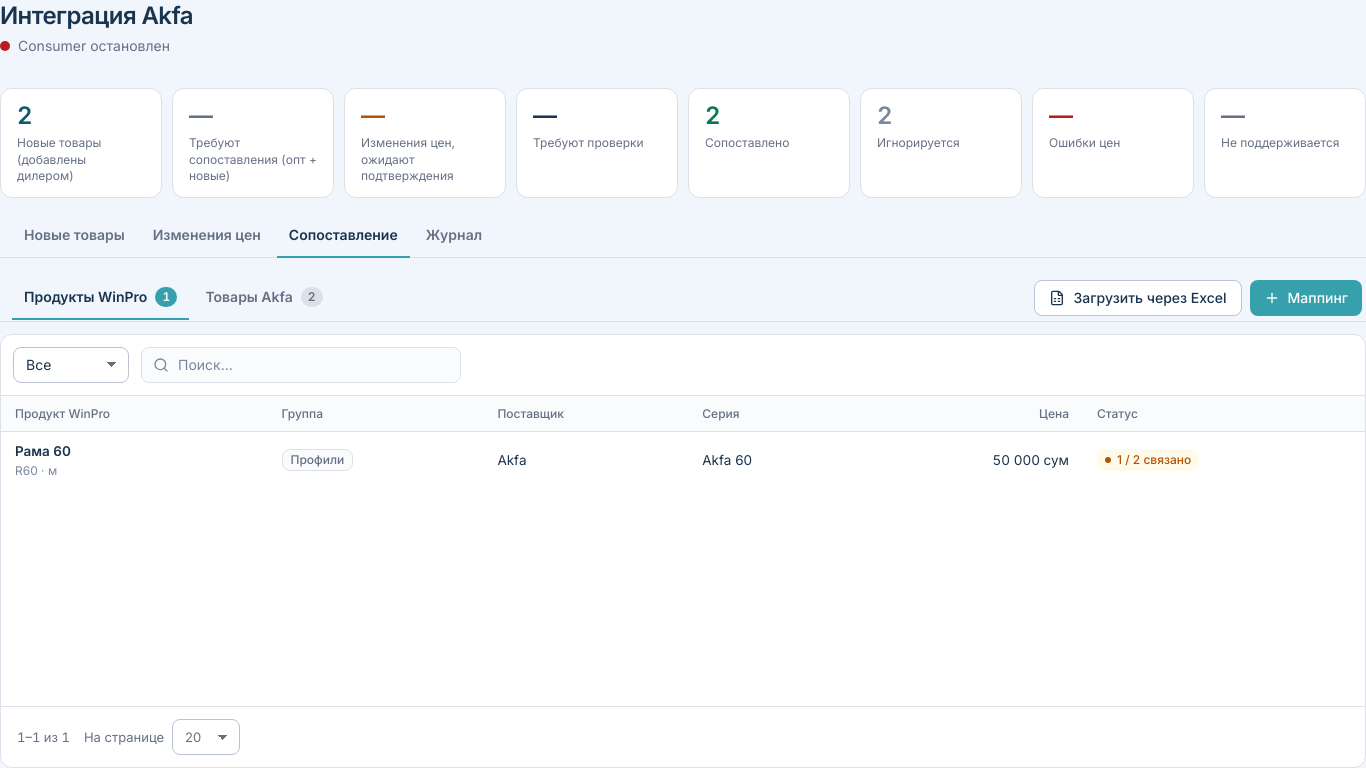
it: Akfa — mapping › lists the rows another admin changed (409) and takes the server state for them
Click the button "Рама 60": [43, 451] box [15,442,71,461]
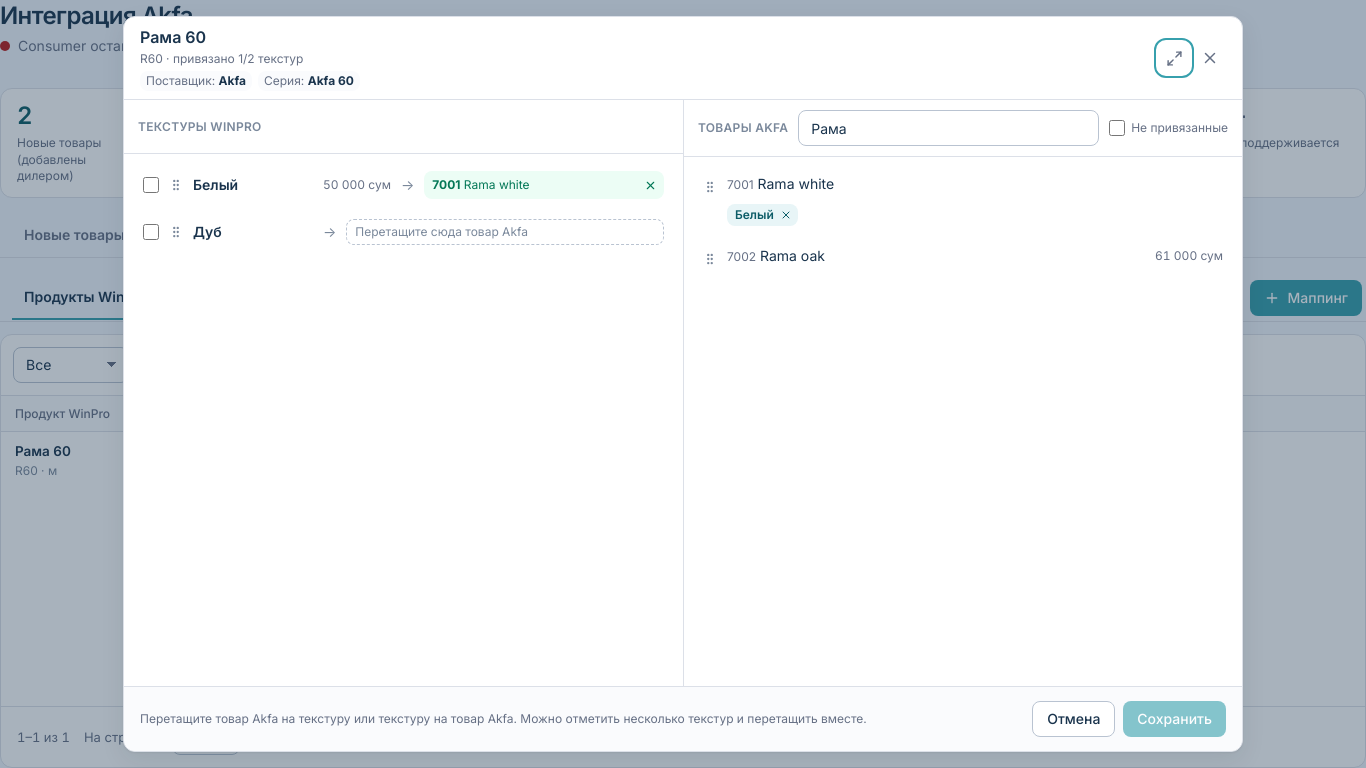
expect the checkbox named "Отметить Рама 60 · Дуб" is shown: met
expect the text "Rama oak" is shown: met, box [760,247,825,264]
Click the checkbox named "Отметить Рама 60 · Дуб": [151, 232] box [143,224,159,240]
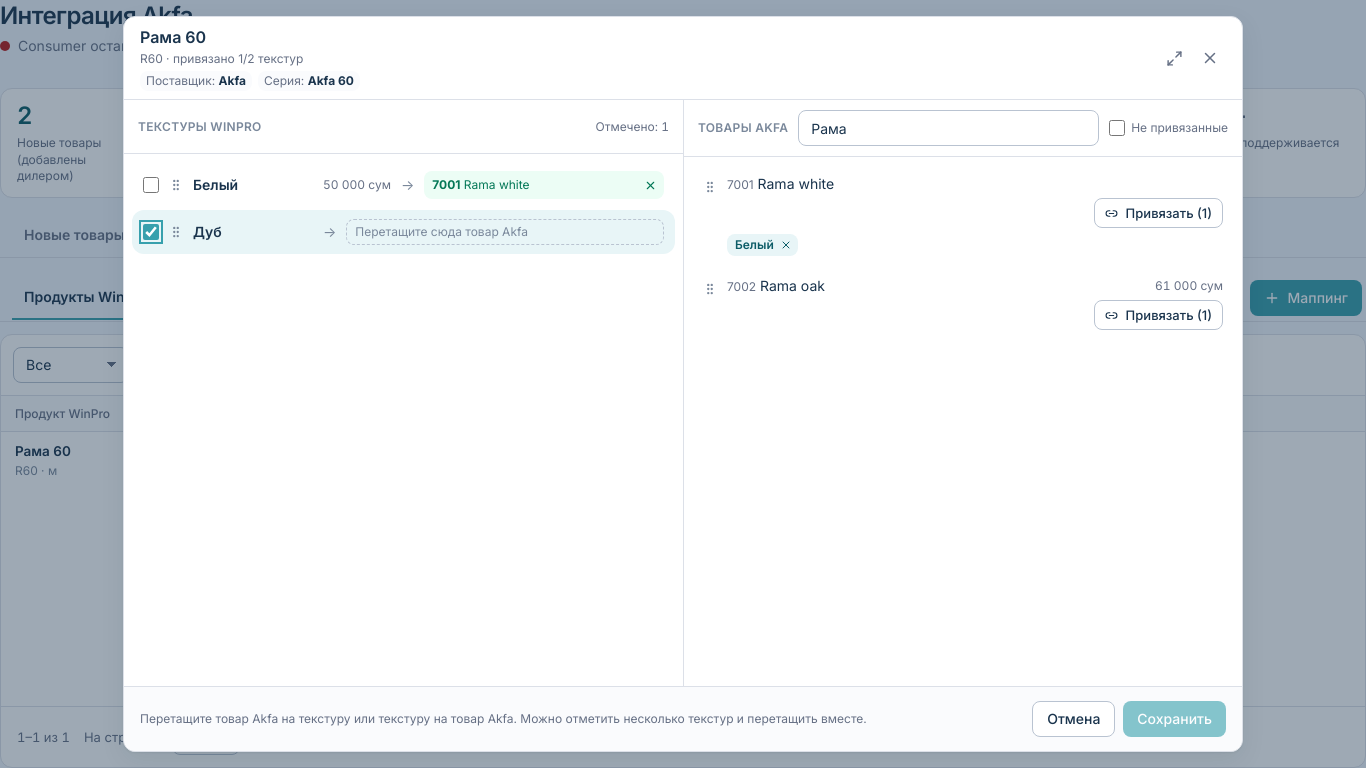
Click the button "Привязать (1)" below "61 000 сум": [1158, 315] box [1094,300,1223,330]
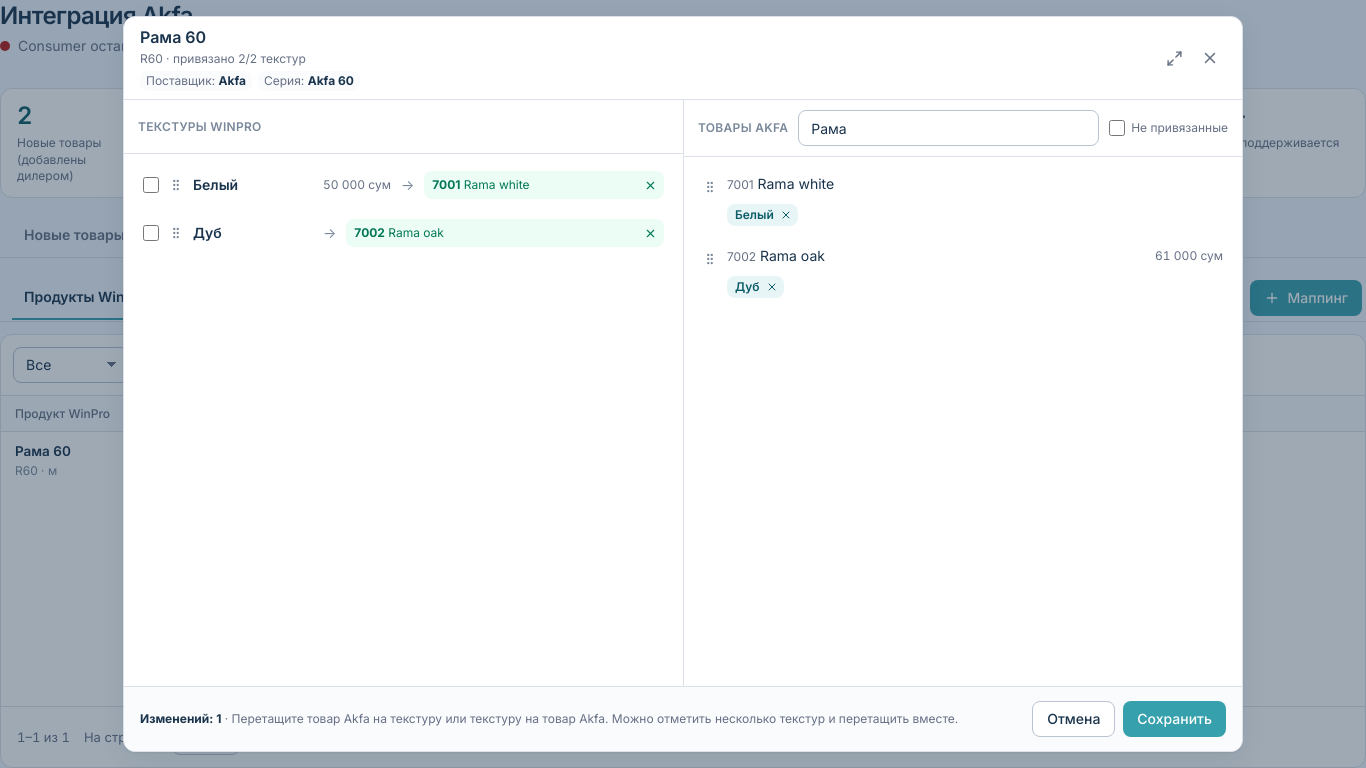
Click the button "Сохранить": [1175, 719] box [1123,701,1226,737]
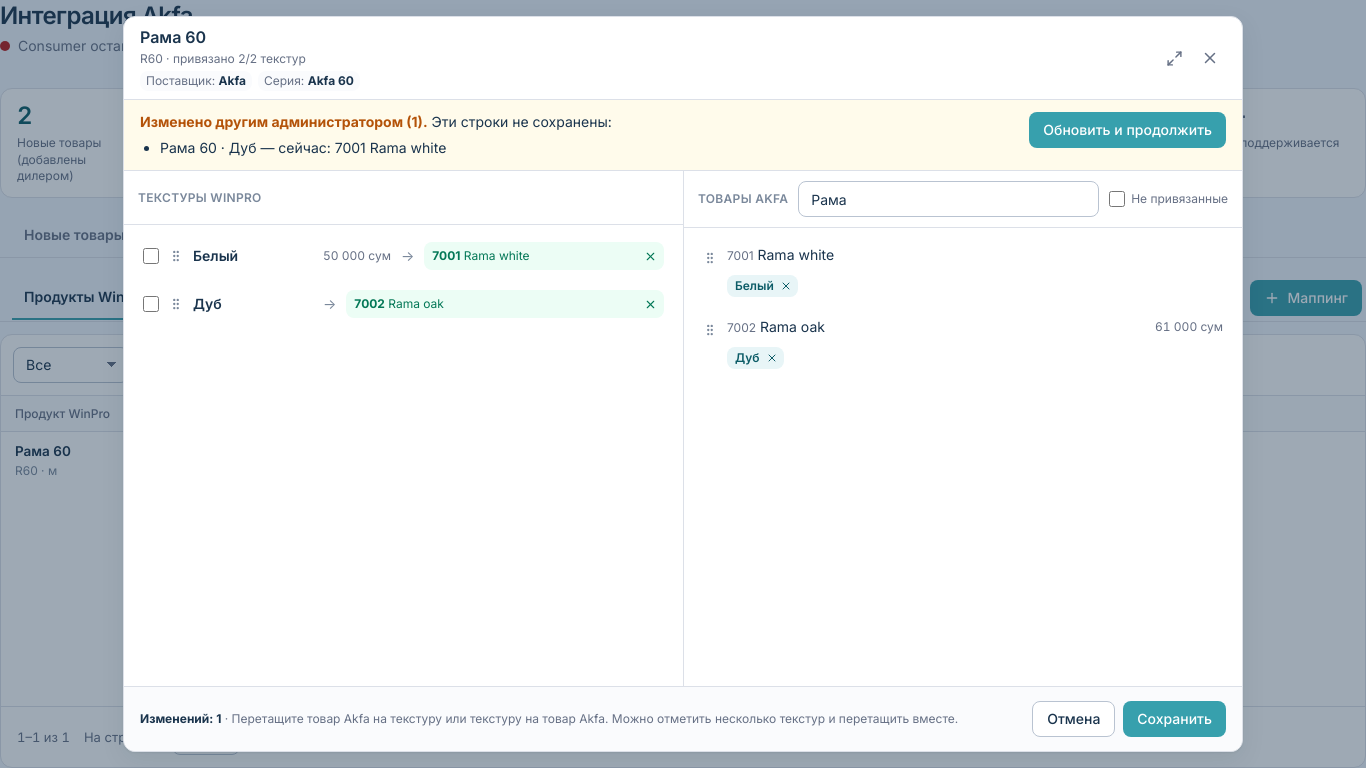
expect the message shows "Изменено другим администратором (1).": met, box [140,113,428,130]
expect the message shows "Рама 60 · Дуб — сейчас: 7001 Rama white": met, box [124,100,1242,171]
Click the button "Обновить и продолжить": [1128, 130] box [1029,112,1226,148]
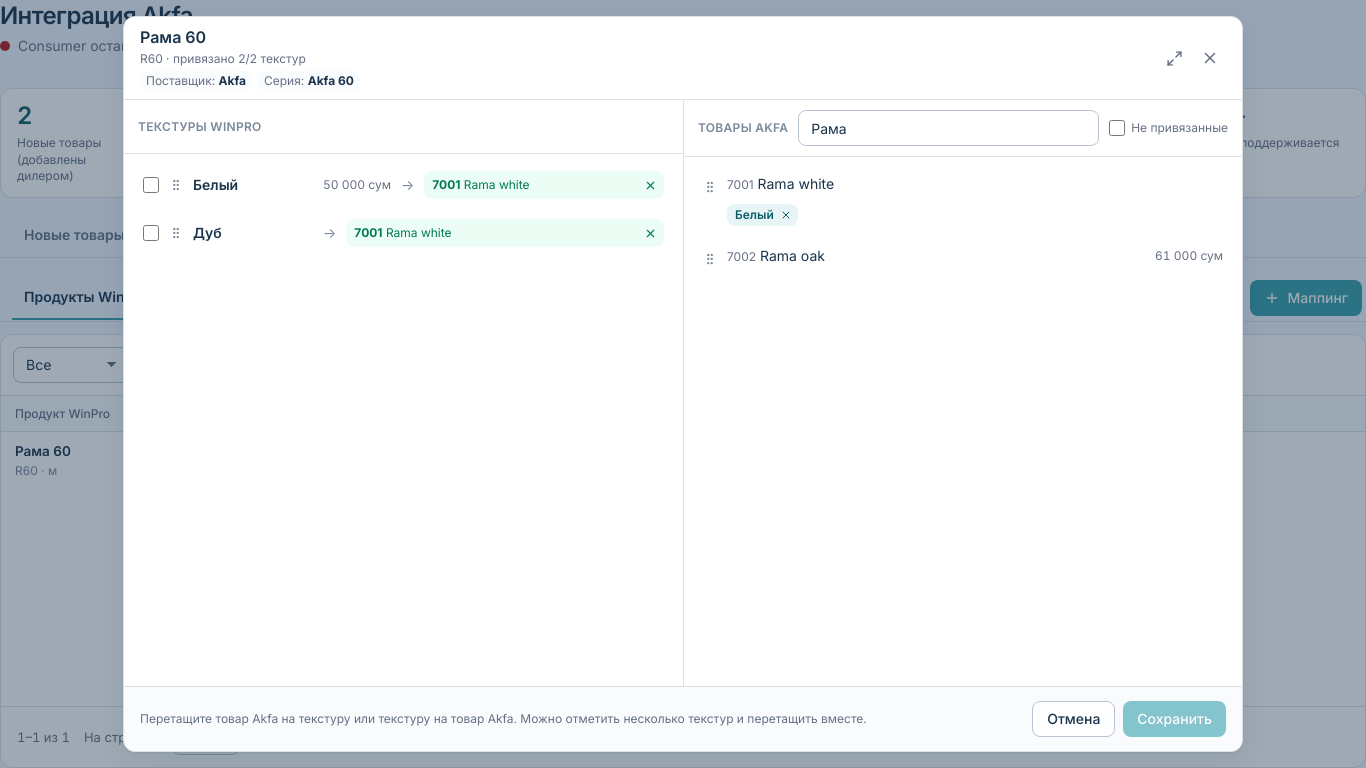
expect the message is gone: met
expect the button "Сохранить" is disabled: met, box [1123,701,1226,737]
